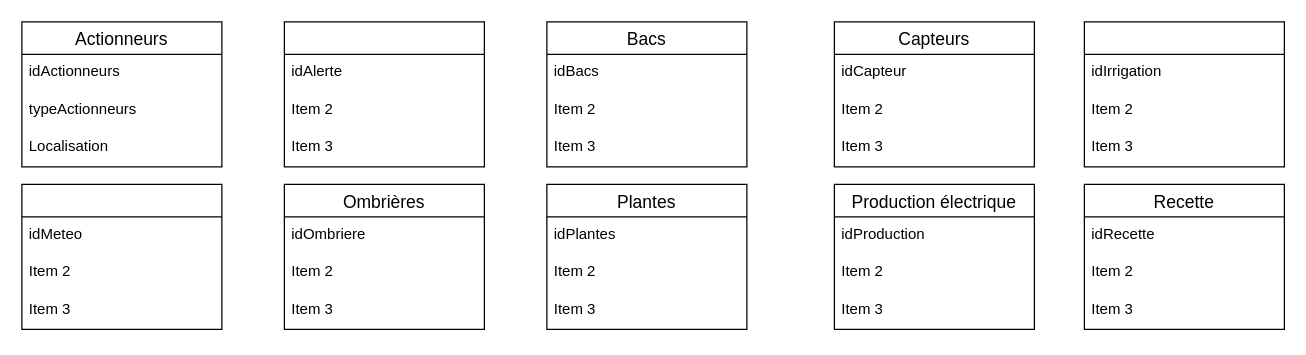
This 1306x355 diagram has some shape labels left out. The shapes that lost their labels are listed below. From the top down, each one's box as (x1, y1, x2, y2) in pixels, then its label:
(283, 21, 484, 167): Alertes
(1083, 21, 1284, 167): Irrigations
(21, 183, 222, 329): Météo
